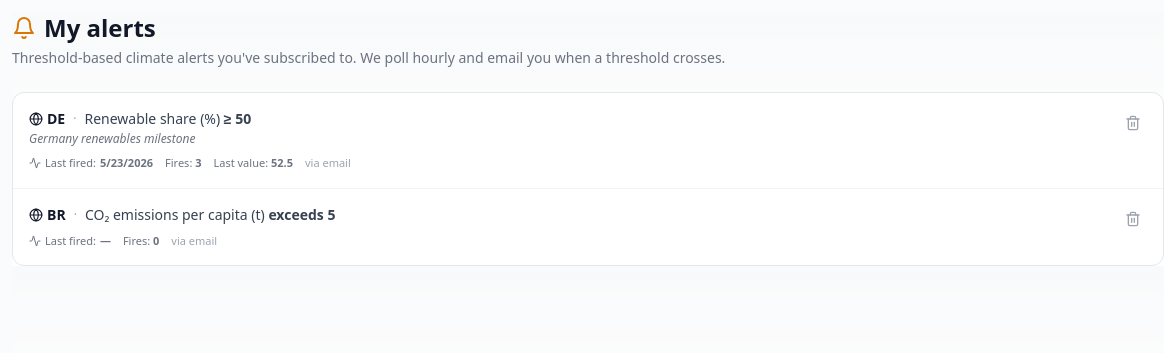
it: AOI management page — Phase 5A › shows error banner when DELETE fails
Expected: the number of elements with test id "aoi-management-row" is 2, [13,93,1163,188]; [13,188,1163,265]
Click the 1st button with test id "aoi-management-delete". click: [1133, 123]
box: [1119,109,1147,137]
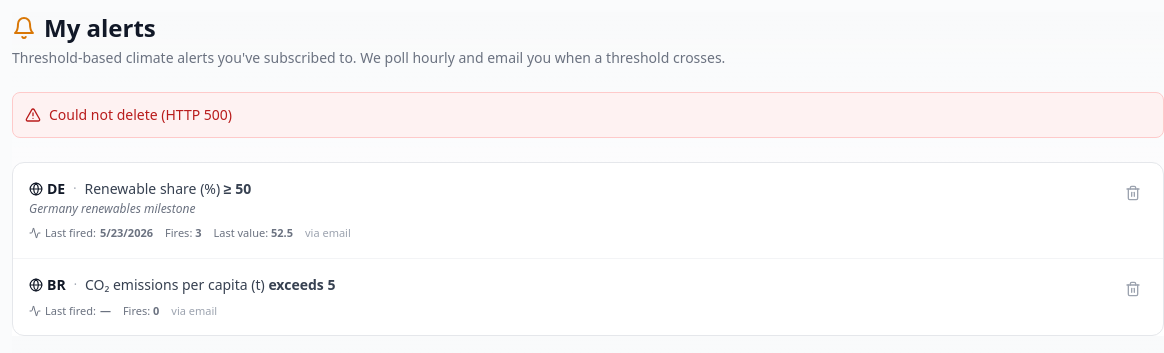
Expected: the number of elements with test id "aoi-management-row" is 2, [13,163,1163,258]; [13,258,1163,335]
Now the message "Could not delete (HTTP 500)" is shown, box [12,92,1163,138]
